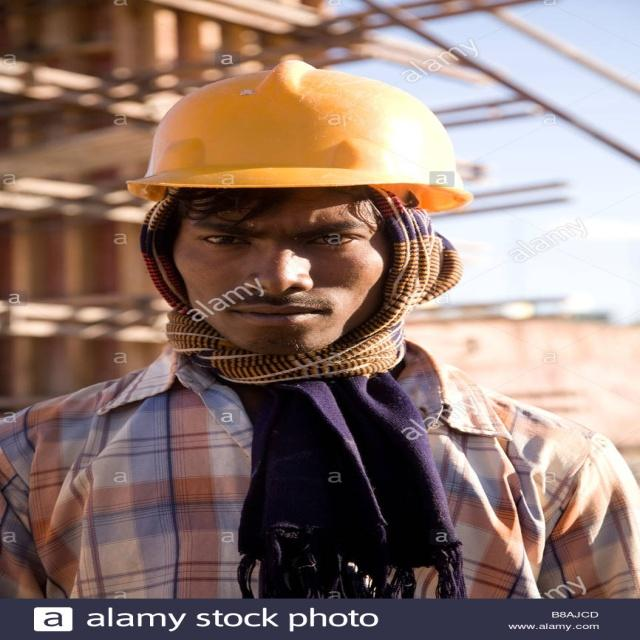helmet: (122, 79, 472, 466)
